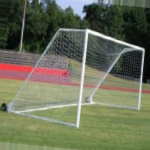goals: (9, 26, 146, 129)
